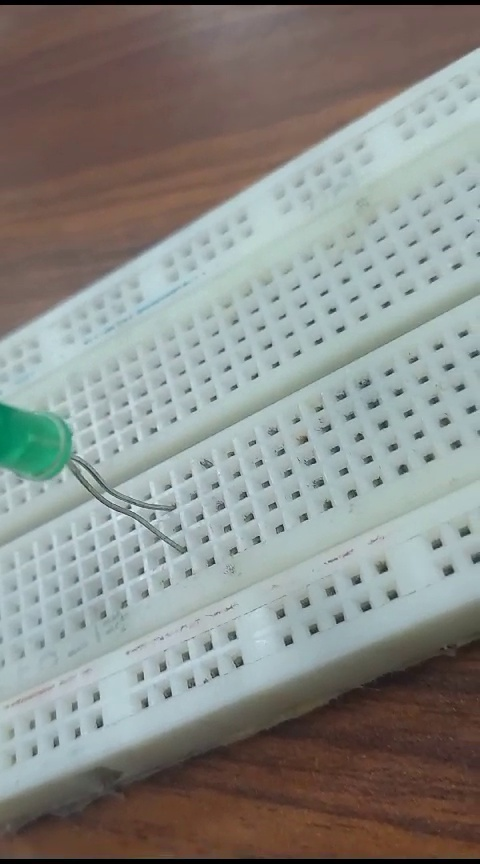LED: (4, 388, 183, 563)
